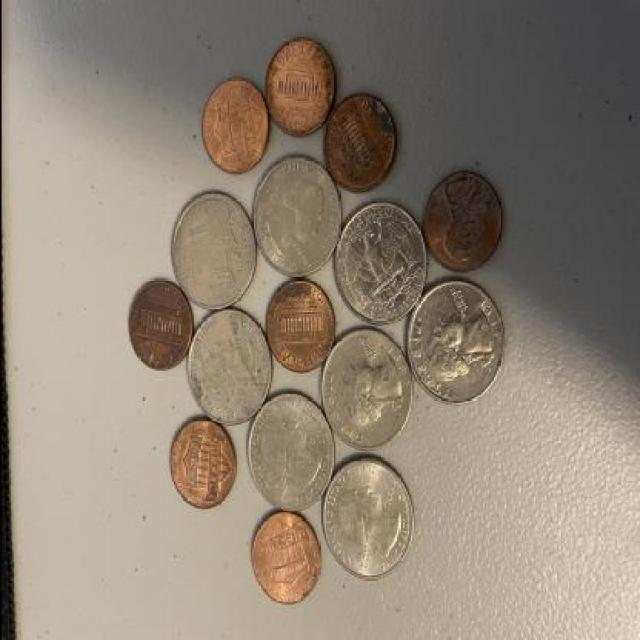Nickel: (405, 277, 503, 406), (317, 328, 412, 457), (320, 456, 414, 582), (332, 203, 426, 326), (168, 190, 264, 310), (250, 156, 344, 278), (242, 392, 336, 512), (183, 308, 272, 430)
Penny: (420, 171, 502, 275), (320, 89, 398, 197), (246, 506, 323, 606), (200, 75, 271, 177), (264, 276, 336, 376), (263, 36, 334, 136), (166, 414, 237, 509), (124, 280, 194, 372)
